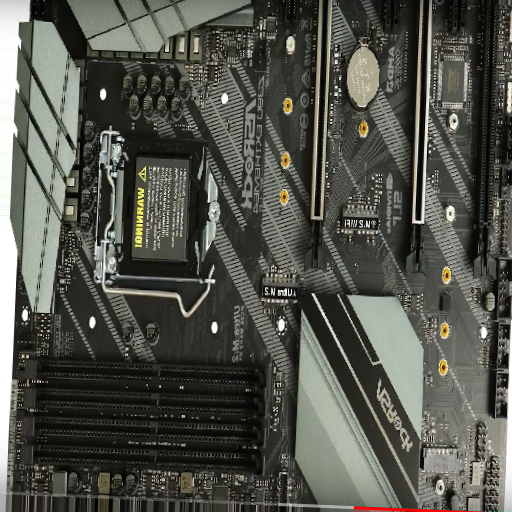CPU: (101, 138, 225, 276)
GPU: (299, 1, 333, 272), (401, 1, 434, 275)
MOTHERBOARD: (4, 1, 507, 512)
RAM: (20, 355, 282, 480)
SSD: (259, 274, 306, 312), (342, 200, 382, 244)
